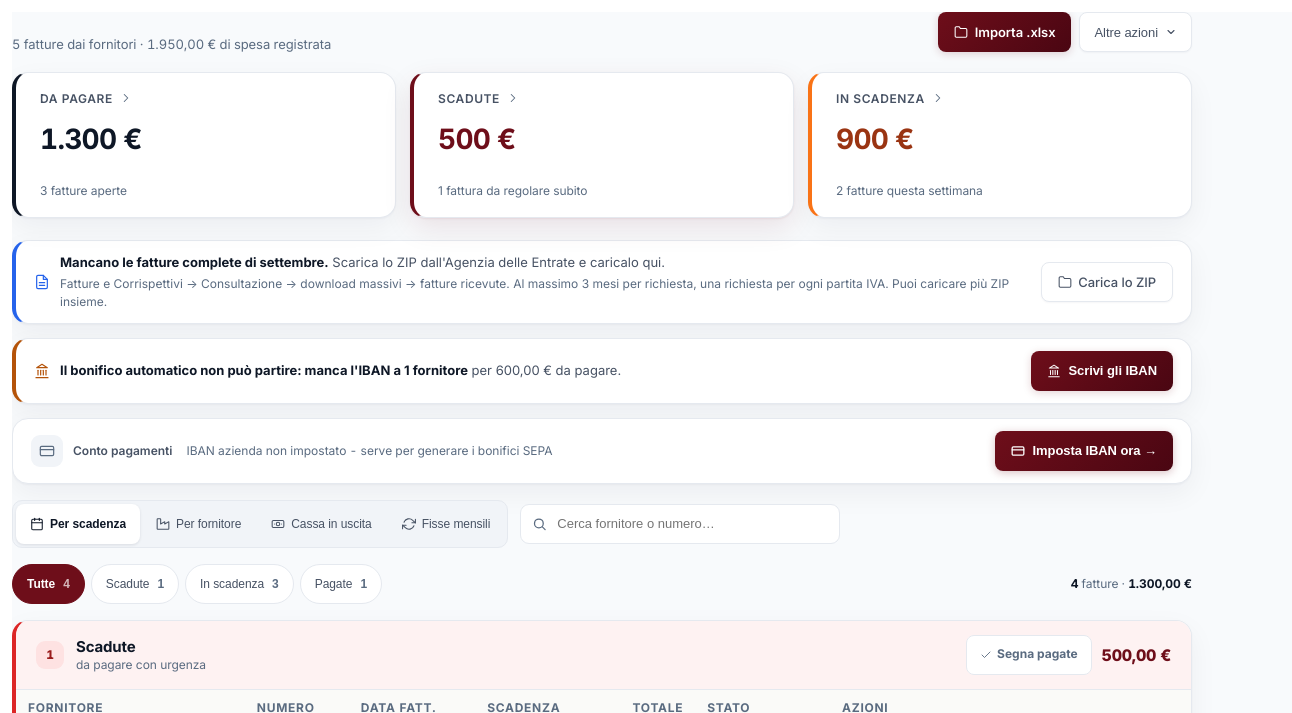
it: quanto si deve, davvero › il dovuto è al netto delle note di credito
Click the button "Per fornitore". click: [199, 524]
box: [142,504,255,544]
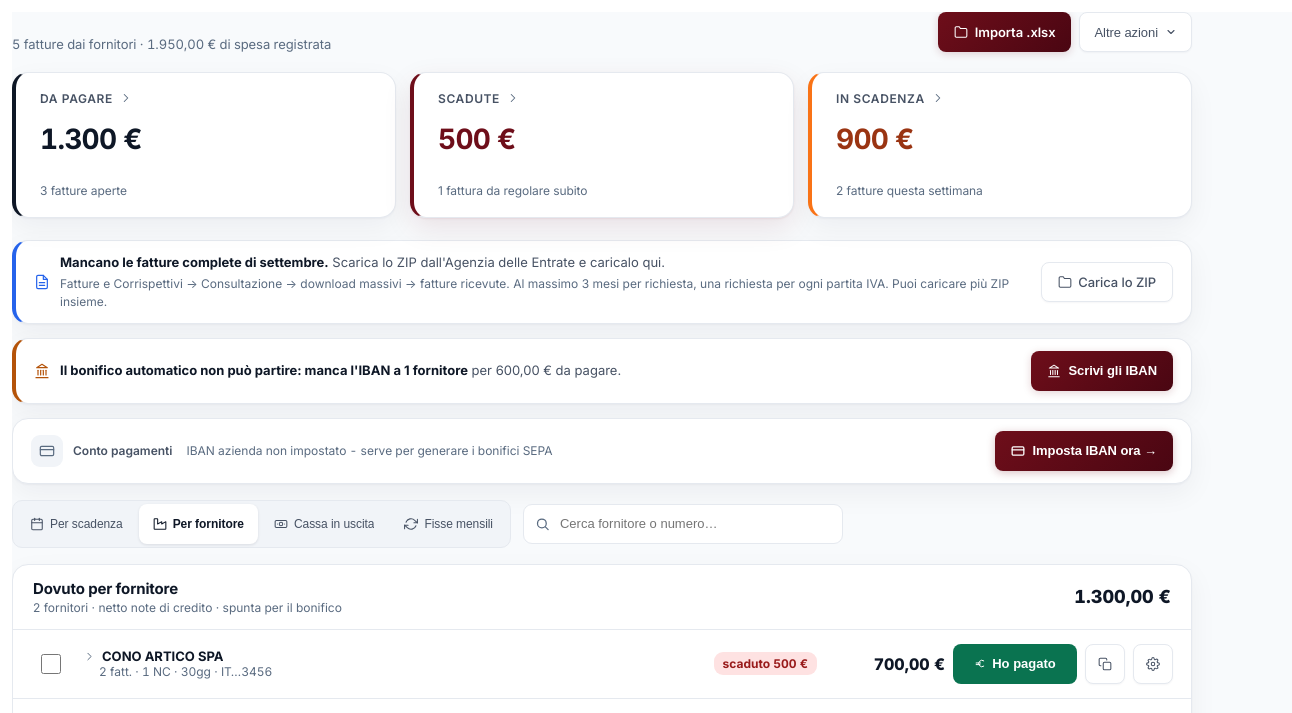
Check: the text "900" is not shown
Check: the element that starts with "CONO ARTICO SPA" is shown, box [13,630,1191,698]
Check: the element that starts with "CONO ARTICO SPA" shows "700", box [874,654,945,674]
